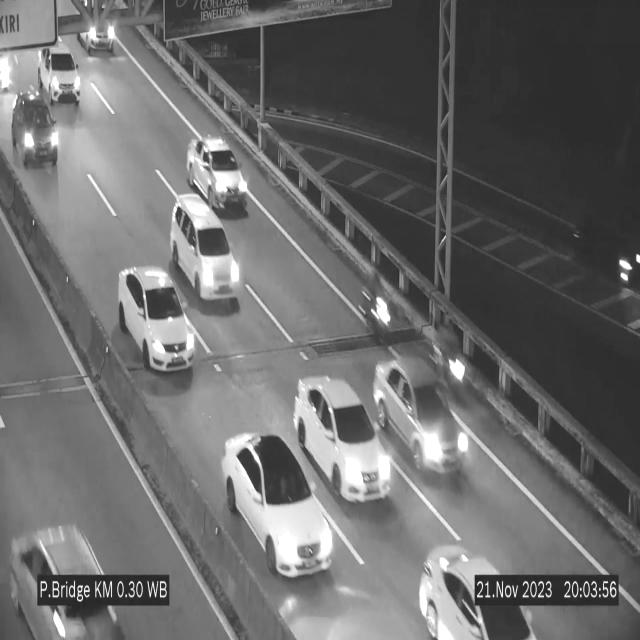Car: (0, 476, 122, 640), (222, 434, 332, 576), (415, 521, 541, 640), (294, 376, 392, 502), (372, 356, 470, 473), (118, 266, 196, 372), (170, 195, 242, 305), (564, 199, 640, 301), (186, 136, 248, 215), (9, 92, 60, 177), (37, 42, 82, 104), (80, 0, 117, 55)
Motorcycle: (433, 321, 467, 406), (364, 268, 390, 342)
